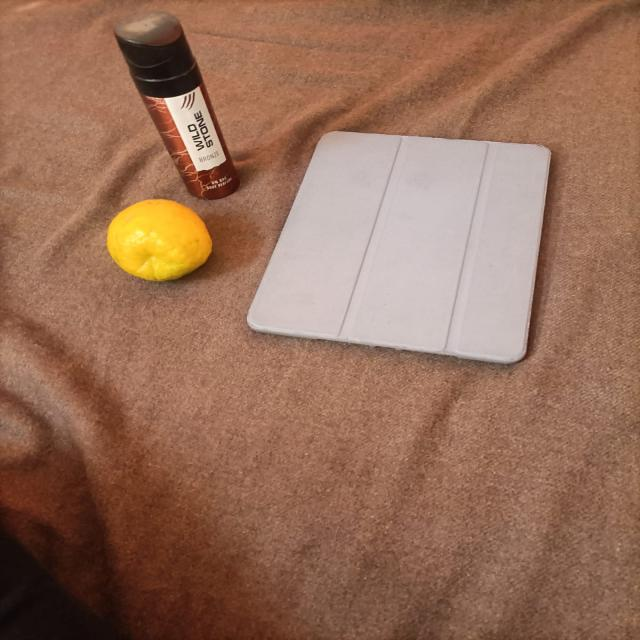orange: (89, 195, 226, 292)
spray: (91, 6, 254, 210)
tablet: (239, 103, 563, 380)
